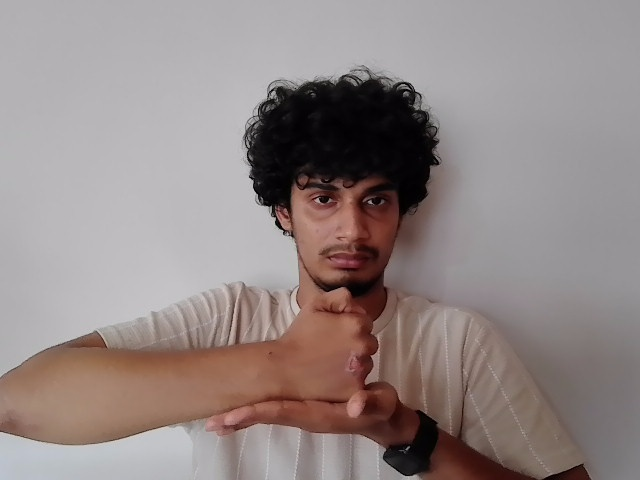help: (206, 286, 409, 440)
